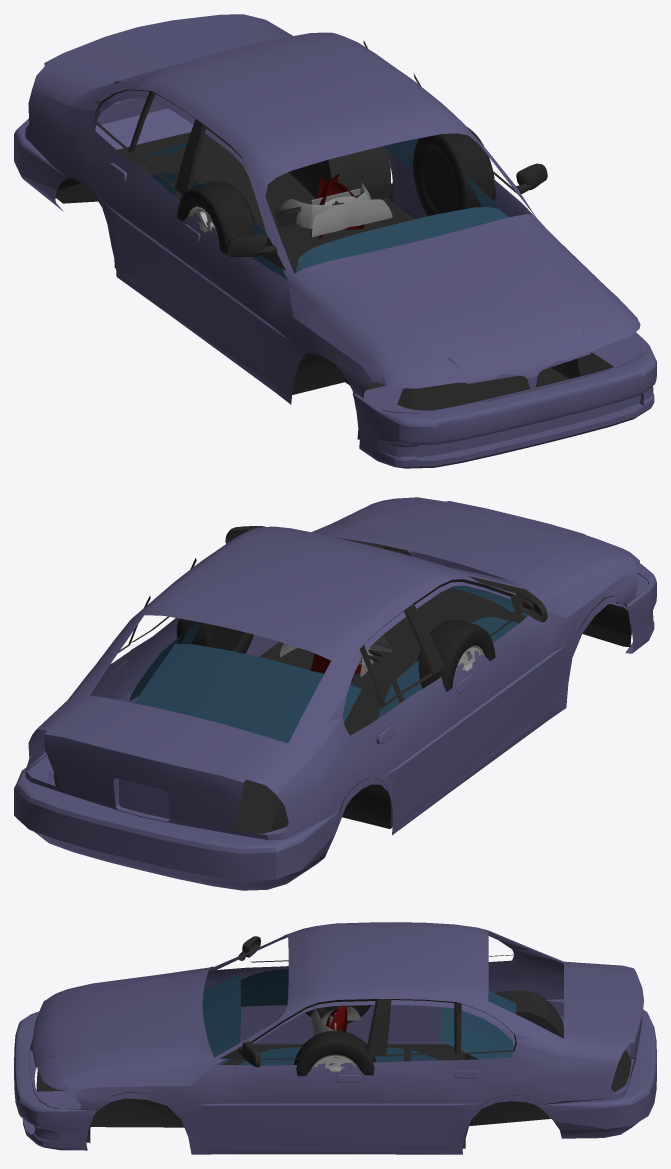
Rendered from autmirm1.fbx.
The picture shows the model from 3 angles, top to bottom: view 1: azimuth 30°, elevation 25°; view 2: azimuth 150°, elevation 25°; view 3: azimuth 270°, elevation 25°; orthographic projection. The views are drawn at different scales.
Parts seen in each view (by area): view 1: mrbody___1, mmtrim, mmtireb, mrglass__1, mmtiref, mrhdltr, mrhdltl, mrgrill; view 2: mrbody___1, mmtrim, mrglass__1, mmtireb, mmtiref; view 3: mrbody___1, mmtrim, mrglass__1, mmtireb, mmrimb, mmtiref.
Part boxes in pixels (x1,y1,x2,y2): mrbody___1: (14, 14, 656, 468); mmtrim: (55, 40, 613, 439); mmtireb: (177, 126, 495, 254); mrglass__1: (130, 136, 508, 279); mmtiref: (177, 138, 494, 248); mrhdltr: (280, 199, 392, 228); mrhdltl: (312, 182, 371, 237); mrgrill: (273, 182, 395, 230); mrbody___1: (14, 497, 656, 890); mmtrim: (53, 526, 631, 833); mrglass__1: (129, 585, 528, 743); mmtireb: (176, 620, 495, 691); mmtiref: (178, 618, 488, 681); mrbody___1: (14, 922, 656, 1154); mmtrim: (36, 936, 631, 1148); mrglass__1: (202, 969, 516, 1065); mmtireb: (294, 1005, 376, 1076); mmrimb: (311, 1054, 359, 1071); mmtiref: (298, 1006, 374, 1074).
Bounding box in the file's own units: 197 × 113 × 441.
